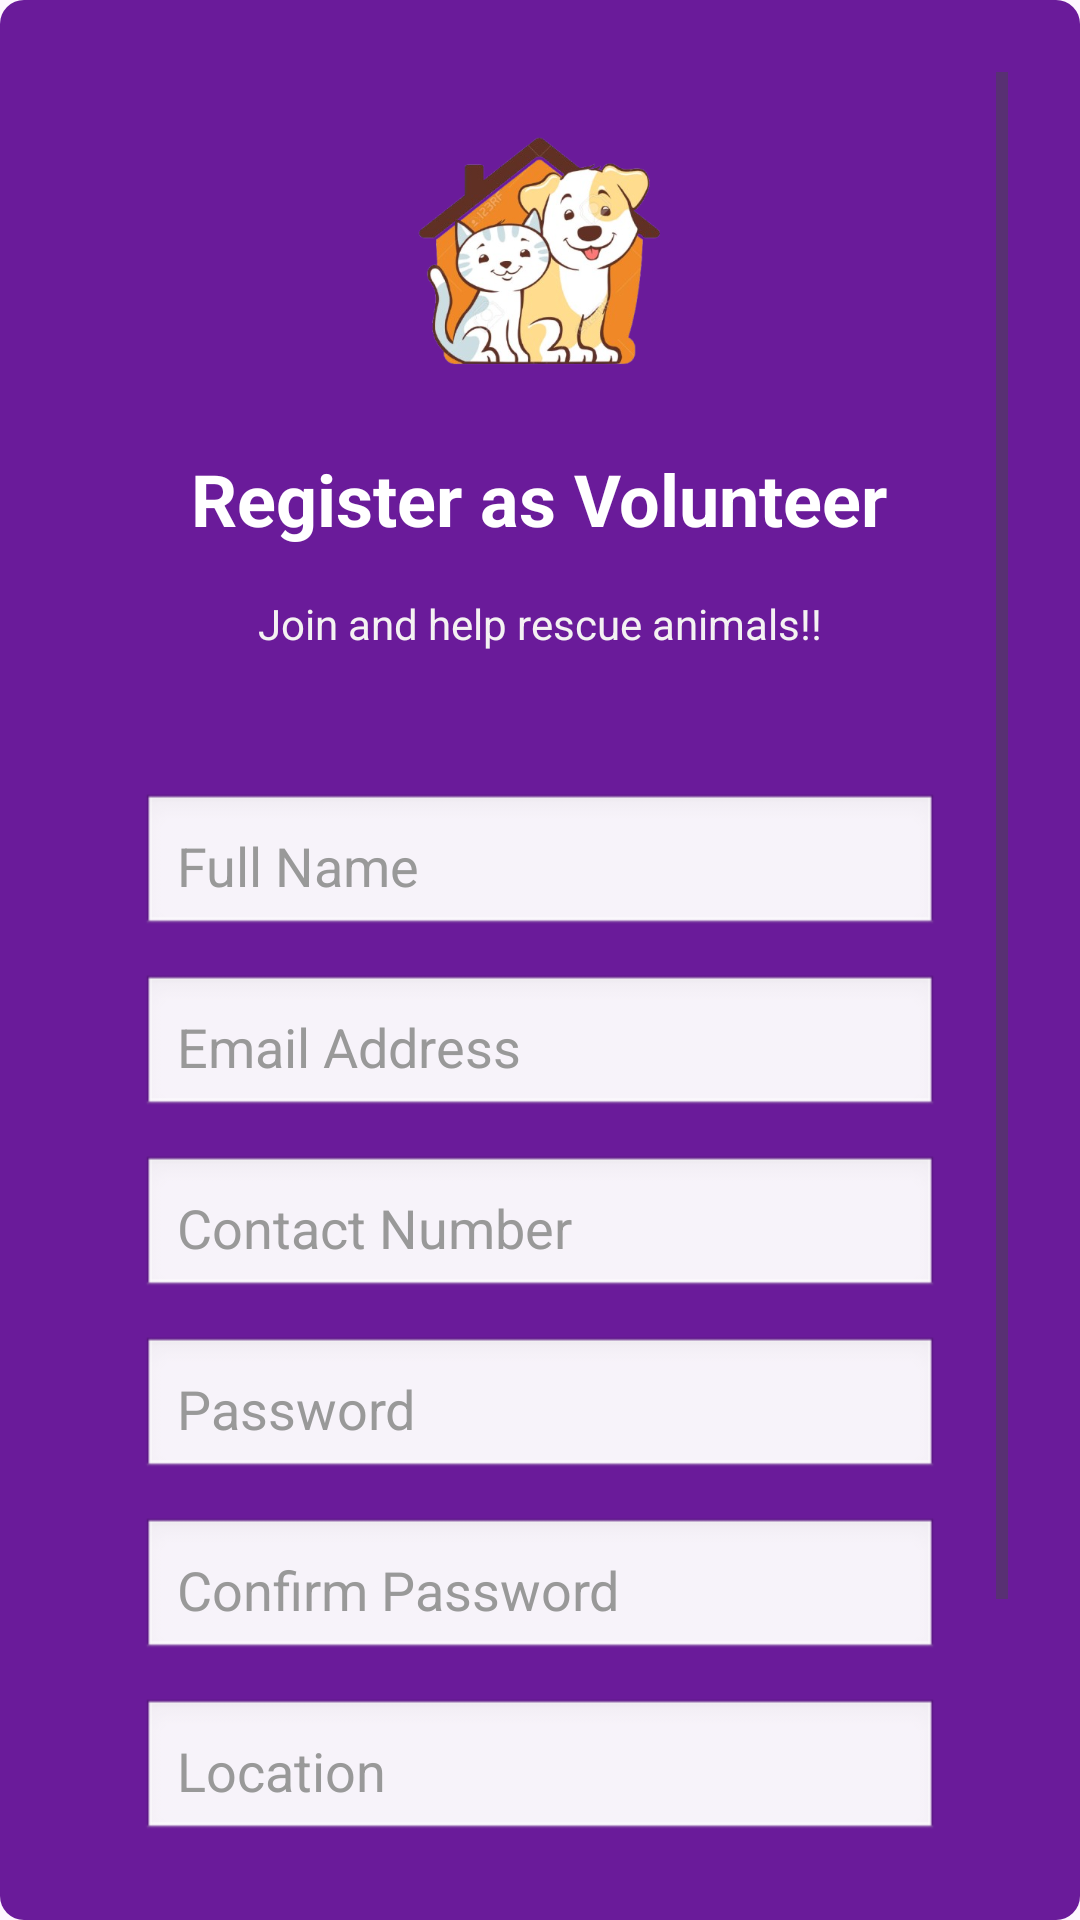

Where to tap for icons on this 1080 x 1920 app screen, as (x,y):
Dog Icon: (539,251)
